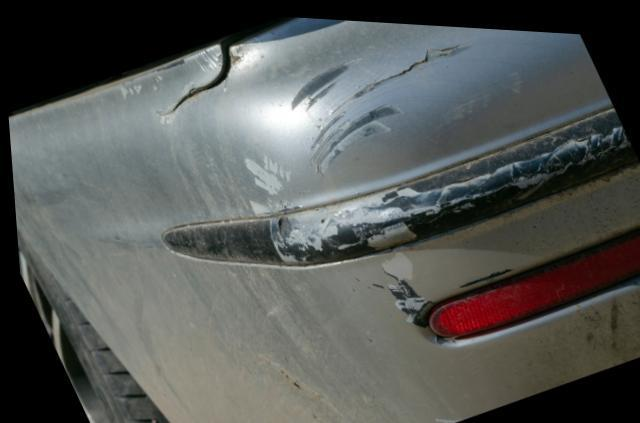crack: (154, 40, 231, 114)
scratch: (240, 31, 633, 329)
